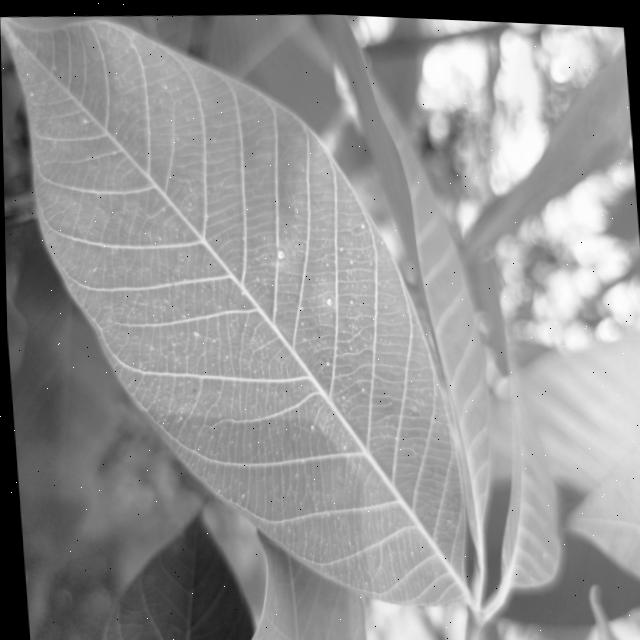Colletotrichum: (275, 244, 286, 258), (324, 293, 333, 303)
